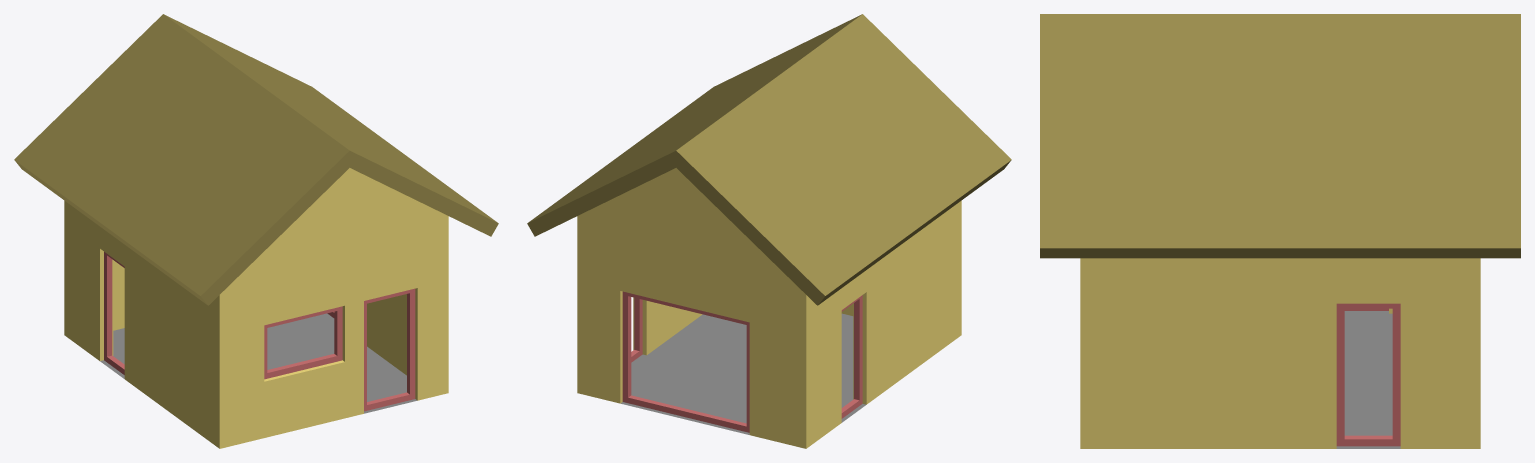
Rendered from result.glb.
3 renders of one model, left to right at view 1: azimuth 30°, elevation 25°; view 2: azimuth 150°, elevation 25°; view 3: azimuth 270°, elevation 25°, orthographic. The views are drawn at different scales.
Visible parts, largest first — view 1: 23af09cc-ffe7-4e12-b19d-ed4369412854__undefined (×2), d499560b-4bfe-4a2f-8421-3d5ab848b514__undefined, 3f4b22db-3083-4462-be69-24b78f022473__Plane_6, 7e288c94-8a60-4b63-80b3-3f8a4b84bc7b__Box, 1f2e05bc-5943-4490-be57-878e218c1433__Box_3, 0fa9d14d-e2e3-4292-8d92-6cf9b09e7d4a__Box_12; view 2: 23af09cc-ffe7-4e12-b19d-ed4369412854__undefined (×2), d499560b-4bfe-4a2f-8421-3d5ab848b514__undefined, 3f4b22db-3083-4462-be69-24b78f022473__Plane_6, 1b9cd8e7-7fdb-4678-846a-15359f993ae6__Box_9, 0fa9d14d-e2e3-4292-8d92-6cf9b09e7d4a__Box_12, 27483f74-5750-4d9c-bd21-f7580ecfac43__Box_15; view 3: 23af09cc-ffe7-4e12-b19d-ed4369412854__undefined, d499560b-4bfe-4a2f-8421-3d5ab848b514__undefined, 3f4b22db-3083-4462-be69-24b78f022473__Plane_6, 27483f74-5750-4d9c-bd21-f7580ecfac43__Box_15.
Boxes of the visible parts, <box> form: 23af09cc-ffe7-4e12-b19d-ed4369412854__undefined (×2): <box>14,14,498,305</box>; d499560b-4bfe-4a2f-8421-3d5ab848b514__undefined: <box>64,168,448,448</box>; 3f4b22db-3083-4462-be69-24b78f022473__Plane_6: <box>100,313,417,413</box>; 7e288c94-8a60-4b63-80b3-3f8a4b84bc7b__Box: <box>364,288,415,411</box>; 1f2e05bc-5943-4490-be57-878e218c1433__Box_3: <box>264,306,342,379</box>; 0fa9d14d-e2e3-4292-8d92-6cf9b09e7d4a__Box_12: <box>104,252,124,374</box>; 23af09cc-ffe7-4e12-b19d-ed4369412854__undefined (×2): <box>527,14,1011,305</box>; d499560b-4bfe-4a2f-8421-3d5ab848b514__undefined: <box>577,168,961,448</box>; 3f4b22db-3083-4462-be69-24b78f022473__Plane_6: <box>621,313,866,434</box>; 1b9cd8e7-7fdb-4678-846a-15359f993ae6__Box_9: <box>622,291,749,432</box>; 0fa9d14d-e2e3-4292-8d92-6cf9b09e7d4a__Box_12: <box>841,295,862,418</box>; 27483f74-5750-4d9c-bd21-f7580ecfac43__Box_15: <box>631,297,642,362</box>; 23af09cc-ffe7-4e12-b19d-ed4369412854__undefined: <box>1040,14,1520,258</box>; d499560b-4bfe-4a2f-8421-3d5ab848b514__undefined: <box>1080,258,1480,448</box>; 3f4b22db-3083-4462-be69-24b78f022473__Plane_6: <box>1336,311,1400,448</box>; 27483f74-5750-4d9c-bd21-f7580ecfac43__Box_15: <box>1336,303,1400,446</box>.
Bounding box in the file's own units: 554 × 500 × 600.
